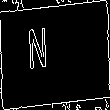N_S: (44, 28, 66, 82)
